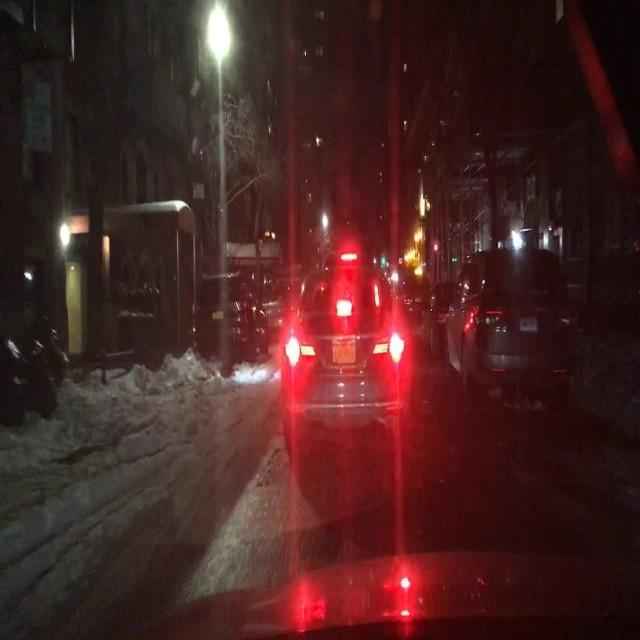normal: (262, 222, 447, 470)
